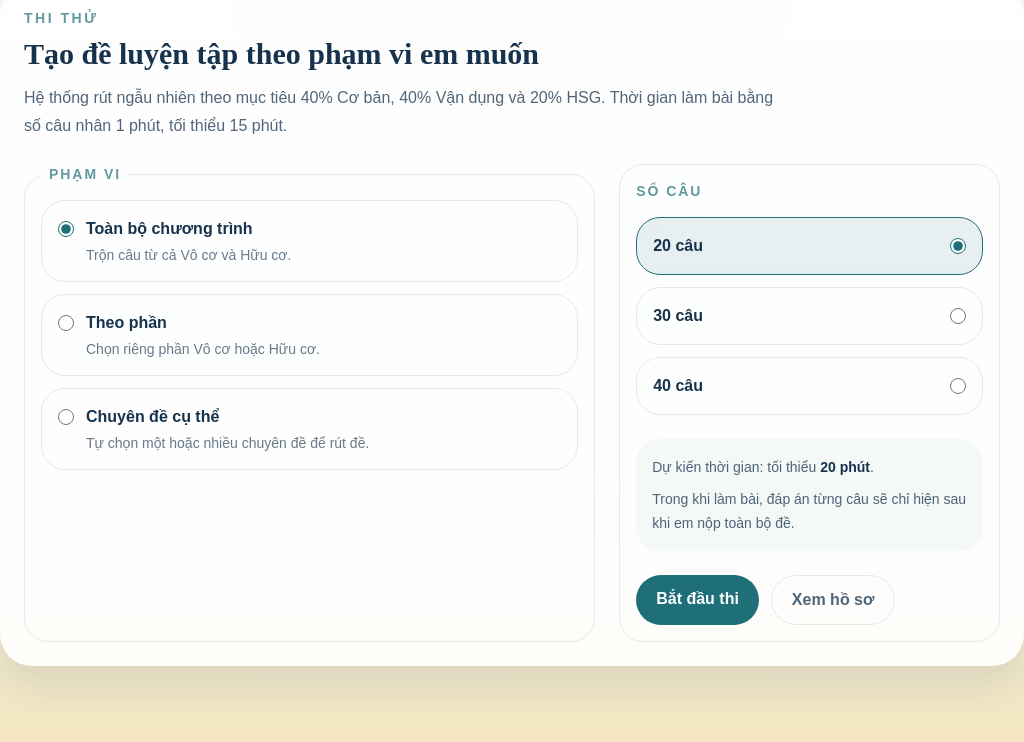
it: ExamRoute › chạy hết luồng cấu hình đến kết quả và cập nhật examHistory, wrongQuestions
Click the button "Bắt đầu thi" at point(698, 600), box [636,575,759,625]
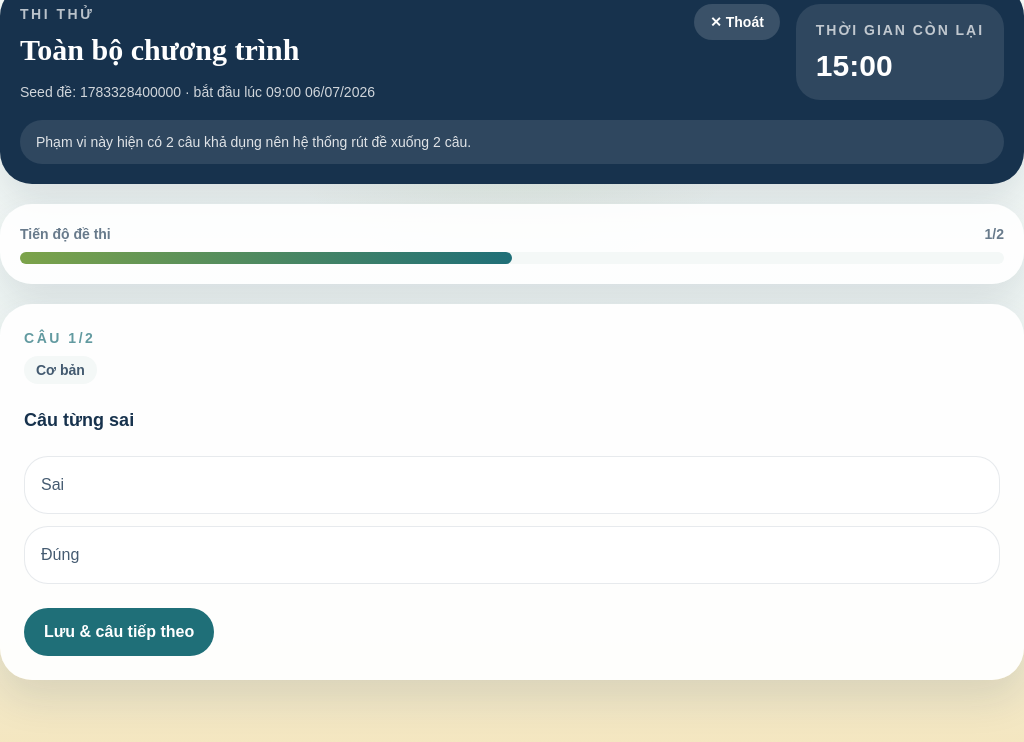
Expected: the button "✕ Thoát" is shown, [694,4,780,40]
Click the button "Đúng" at point(47, 554), box [24,526,1000,584]
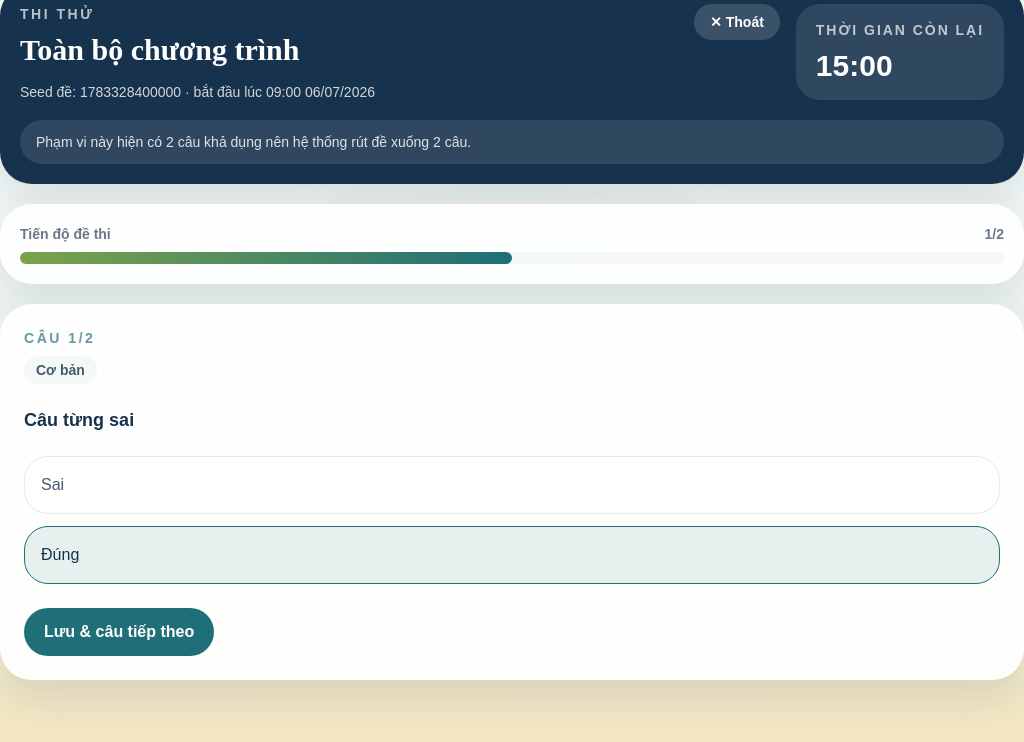
Click the button "Lưu & câu tiếp theo" at point(119, 632), box [24,608,214,656]
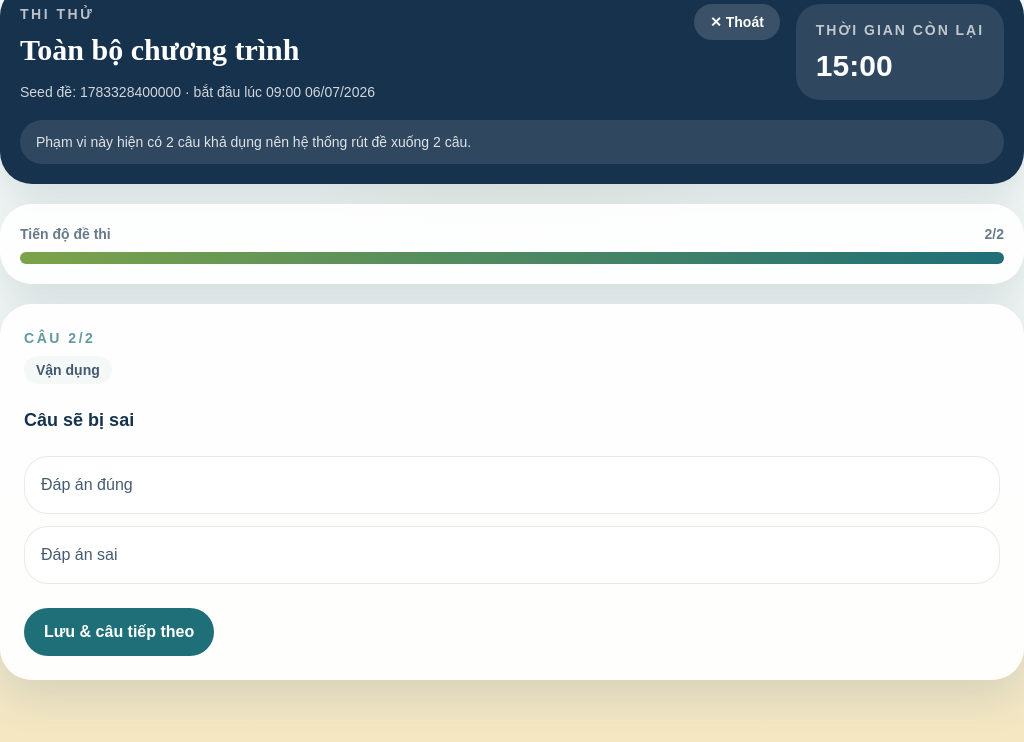
Click the button "Đáp án sai" at point(47, 554), box [24,526,1000,584]
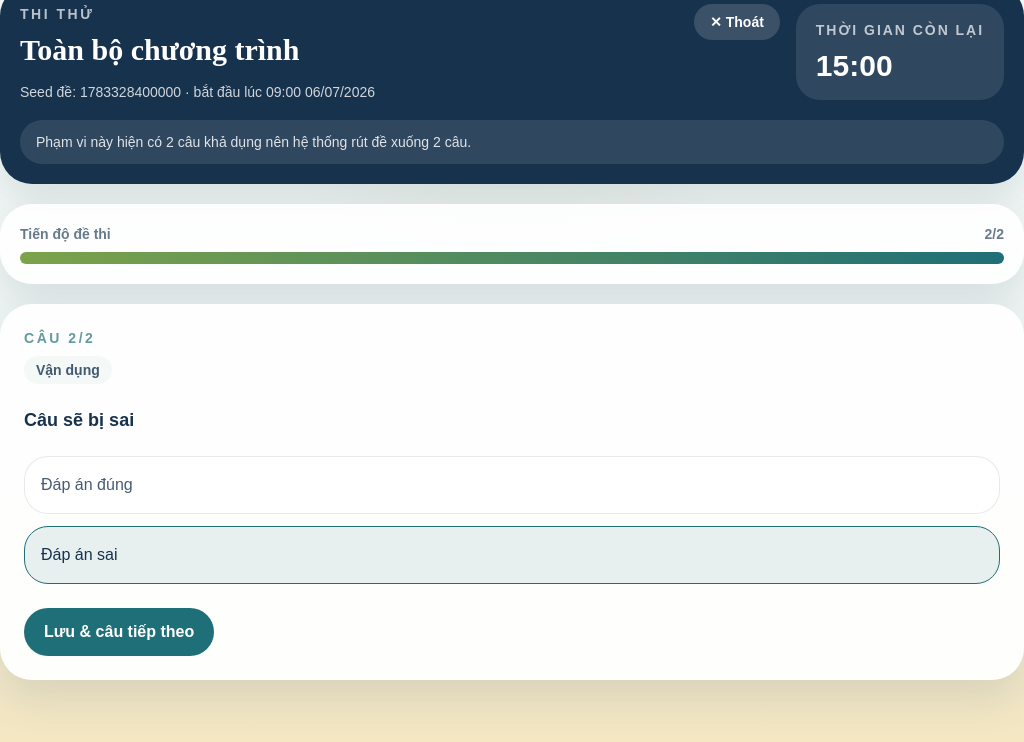
Click the button "Lưu & câu tiếp theo" at point(119, 632), box [24,608,214,656]
(page scrolled)
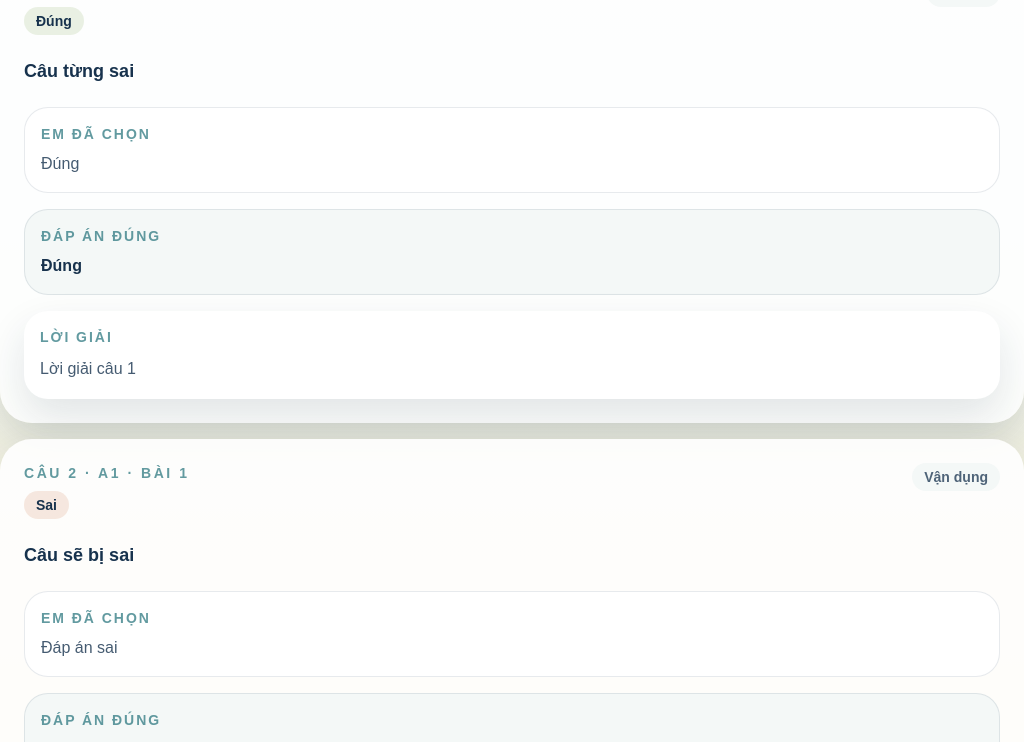
Expected: the text "Lời giải câu 1" is shown, [40,360,136,377]
